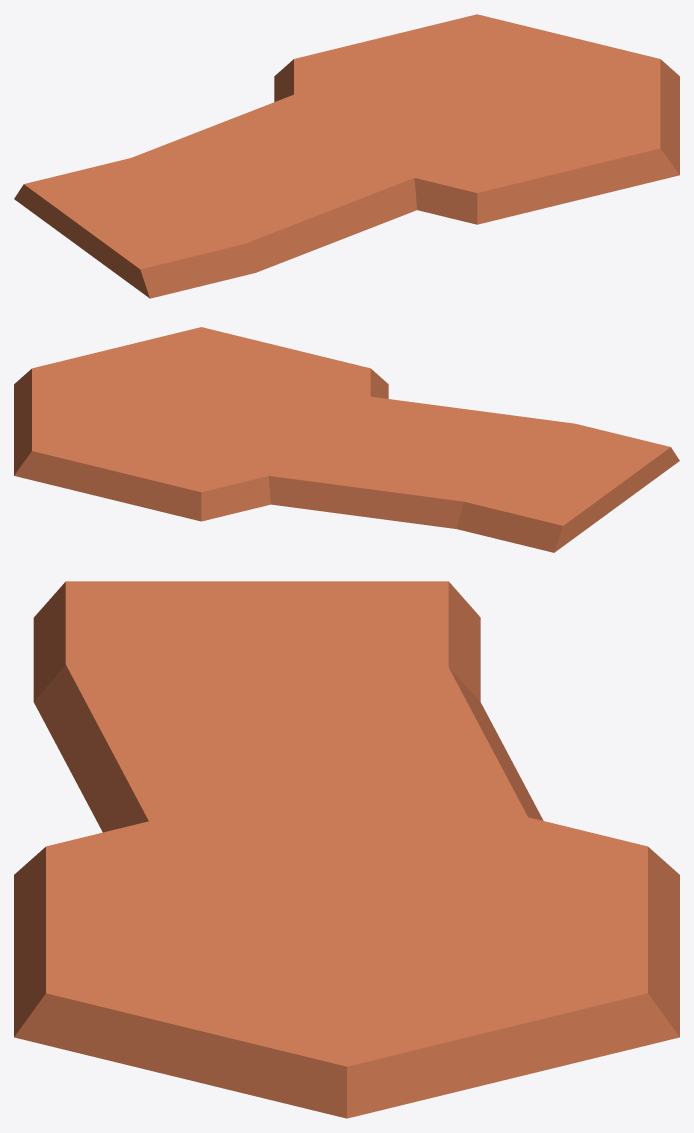
The model's file is path_start.fbx.
3 renders of one model, top to bottom at view 1: azimuth 30°, elevation 25°; view 2: azimuth 150°, elevation 25°; view 3: azimuth 270°, elevation 25°, orthographic. The views are drawn at different scales.
Visible parts, largest first — view 1: path_start; view 2: path_start; view 3: path_start.
Part boxes in pixels (x1,y1,x2,y2): path_start: (14, 14, 679, 298); path_start: (14, 327, 679, 552); path_start: (14, 581, 679, 1118).
Size of the model in its own units: 7.4 by 0.25 by 4.16.
